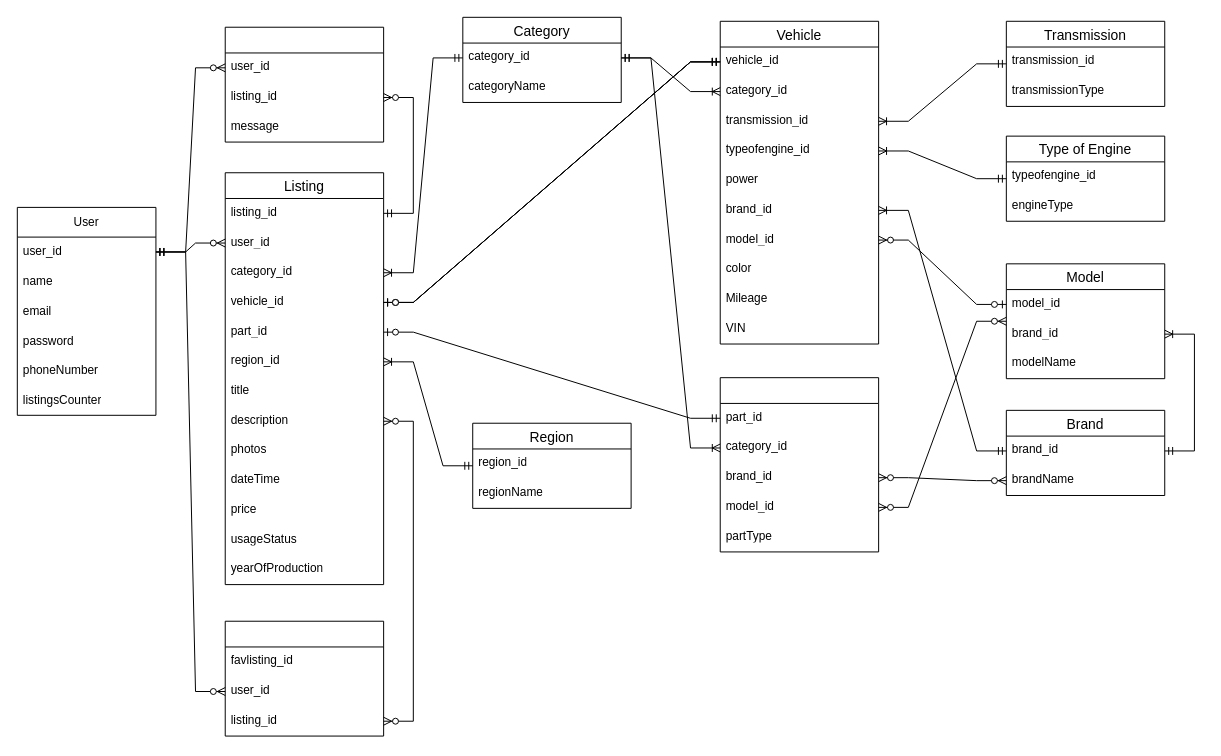
This 1221x756 diagram has some shape labels left out. The shapes that lost their labels are listed below. From the top down, each one's box as (x1, y1, x2, y2) in pixels, then its label:
(224, 26, 384, 142): Ask
(719, 377, 879, 552): Car part
(224, 620, 384, 736): Favorite listing
